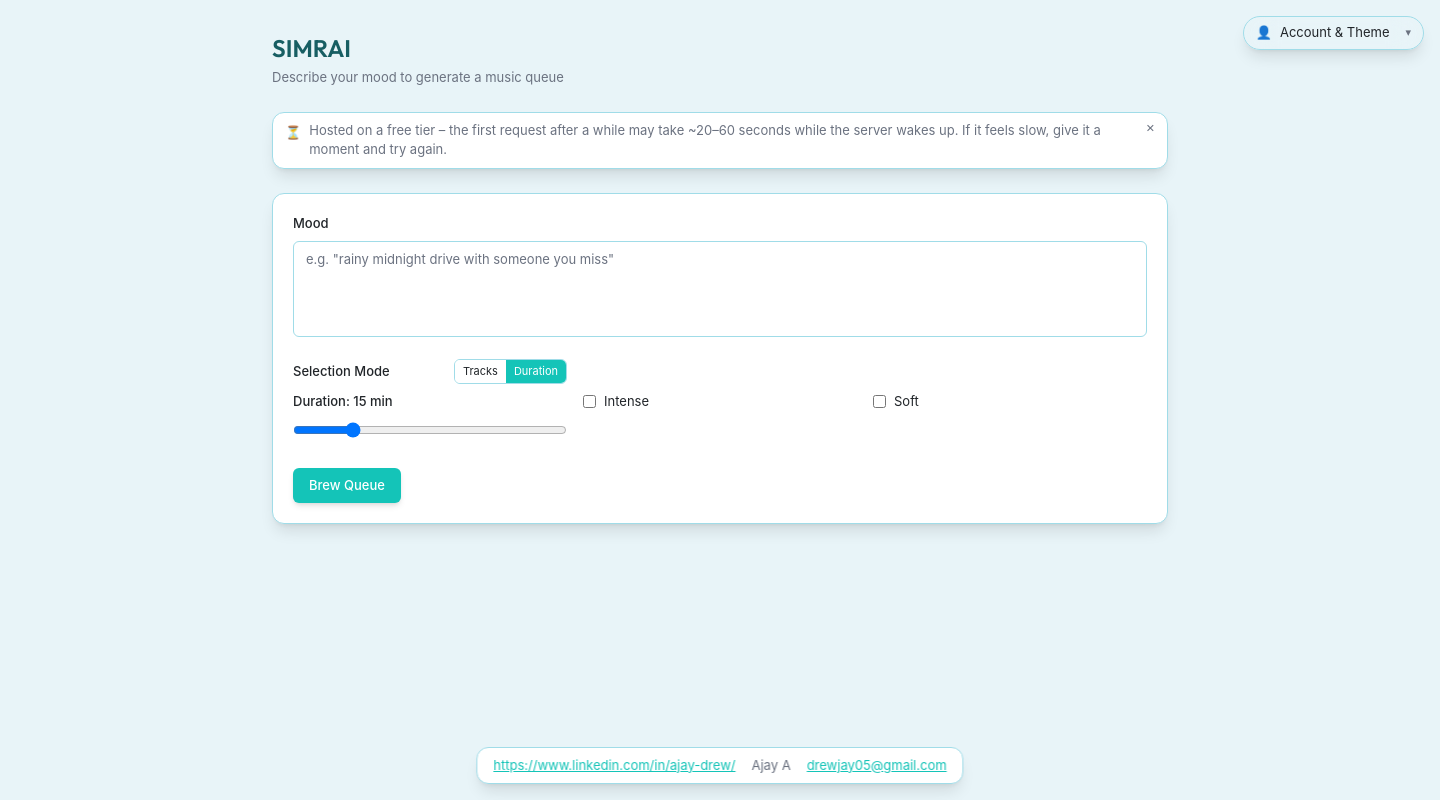
SIMRAI web UI – mood to queue journey › renders the queue correctly on a laptop-sized viewport
The image size is (1440, 800).
Type "focus deep work" into the text box with placeholder "e.g. \"rainy midnight drive with someone you miss\"".
click(720, 289); type("focus deep work")  # box [293,241,1147,337]
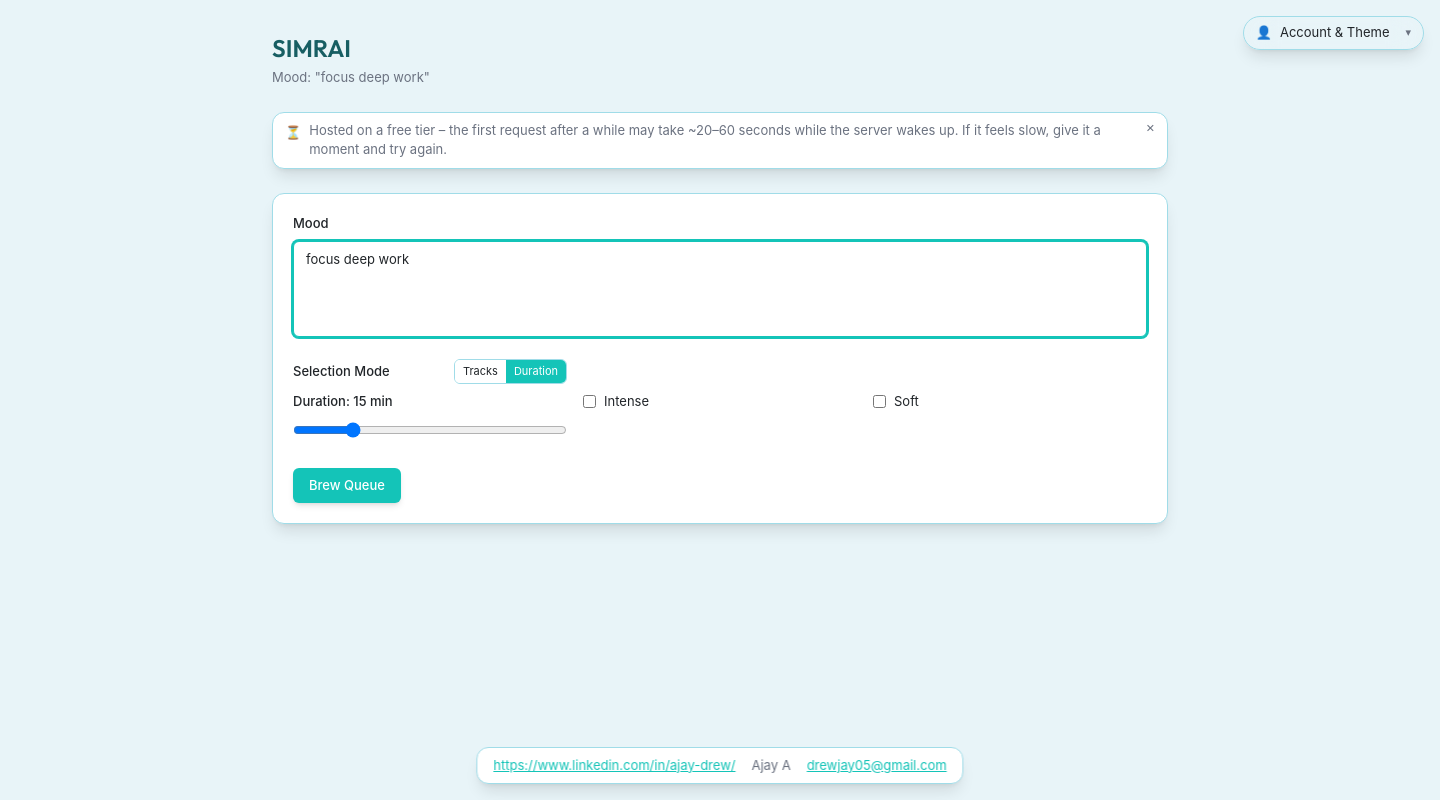
Click the button "Brew Queue".
click(347, 486)  # box [293,468,401,504]
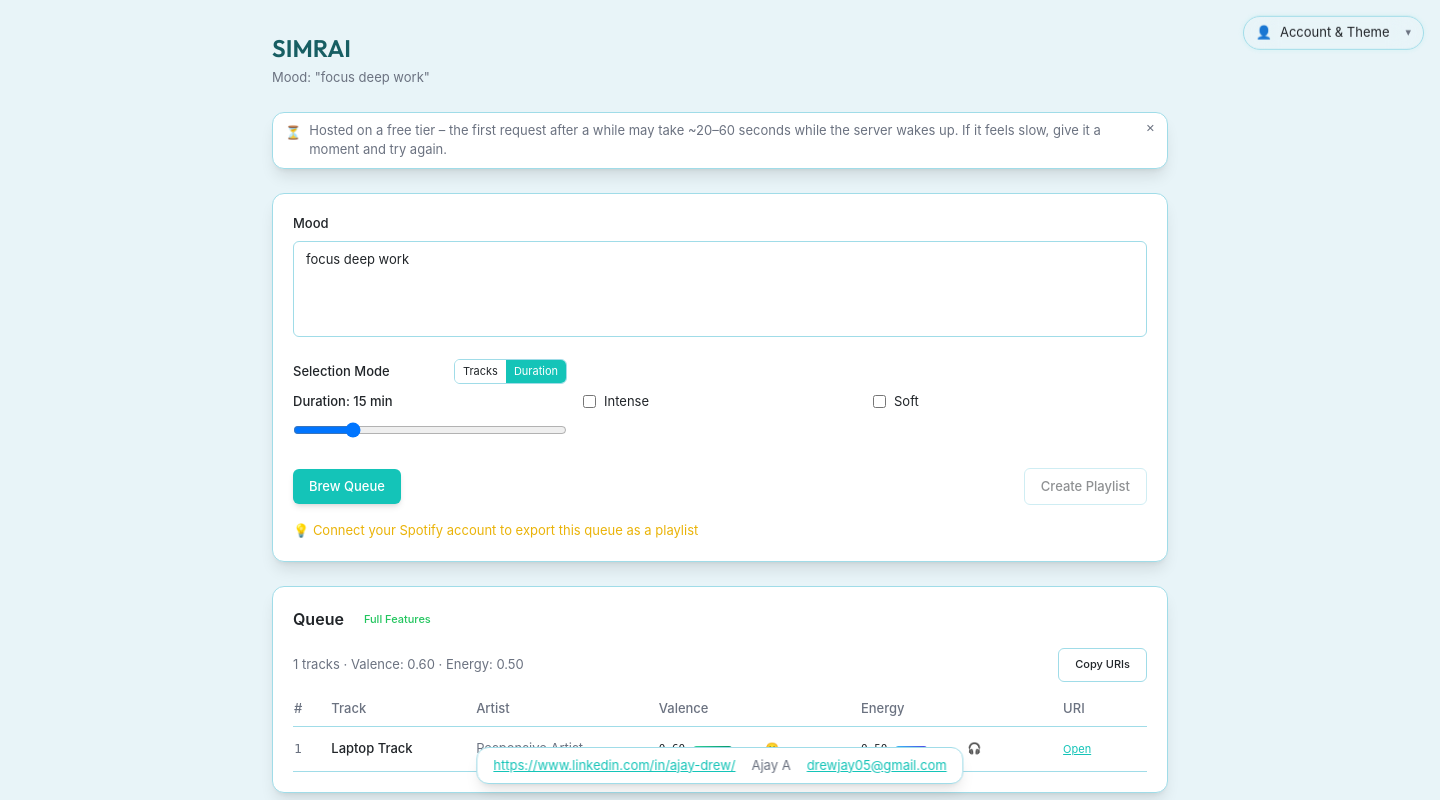
Expected: the number of rows is at least 1
Expected: the text "Laptop Track" is shown, [330,727,475,771]
Expected: the column heading "URI" is shown, [1062,698,1147,727]
